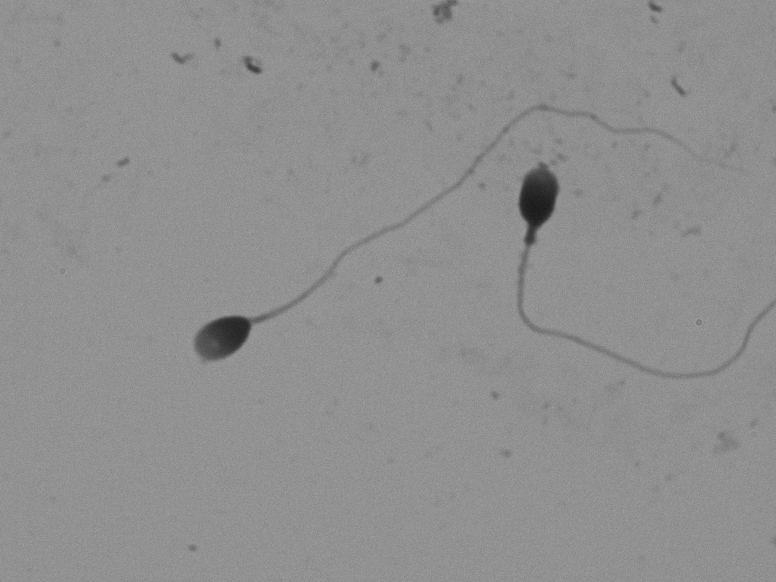Abnormal: (497, 162, 758, 399)
Normal: (113, 37, 480, 387)
